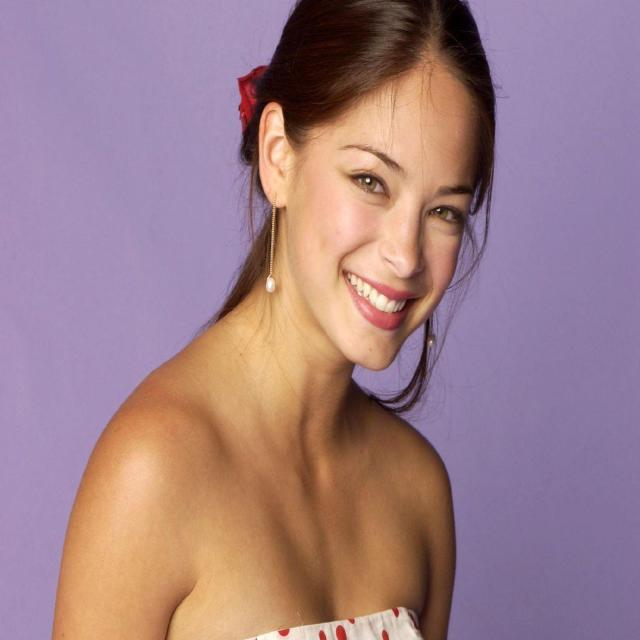no-earmuff: (248, 89, 304, 227)
